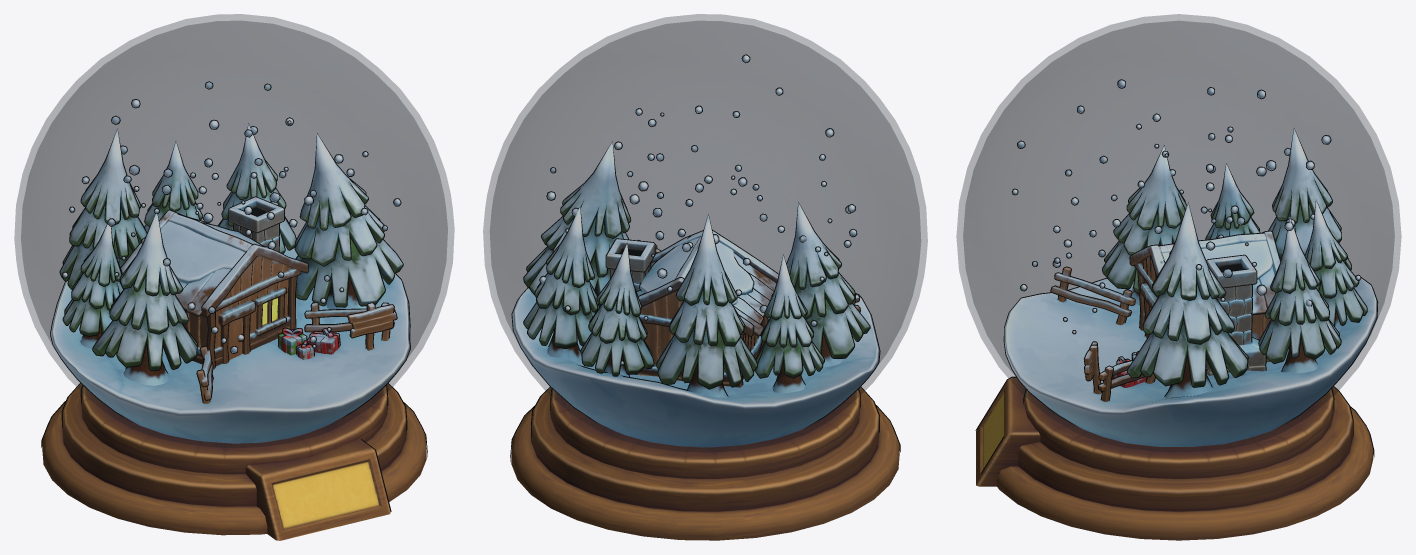
File: christmas_ball.glb
3 renders of one model, left to right at view 1: azimuth 30°, elevation 25°; view 2: azimuth 150°, elevation 25°; view 3: azimuth 270°, elevation 25°, orthographic.
Parts seen in each view (by area): view 1: glass, christmass_ball; view 2: glass, christmass_ball; view 3: glass, christmass_ball.
Part boxes in pixels (x1,y1,x2,y2): glass: (14, 14, 454, 447); christmass_ball: (41, 81, 427, 540); glass: (483, 14, 927, 452); christmass_ball: (510, 54, 900, 540); glass: (956, 14, 1401, 451); christmass_ball: (975, 79, 1378, 540).
Size of the model in its own units: 200 by 210 by 200.
3 materials, 2 textured.
